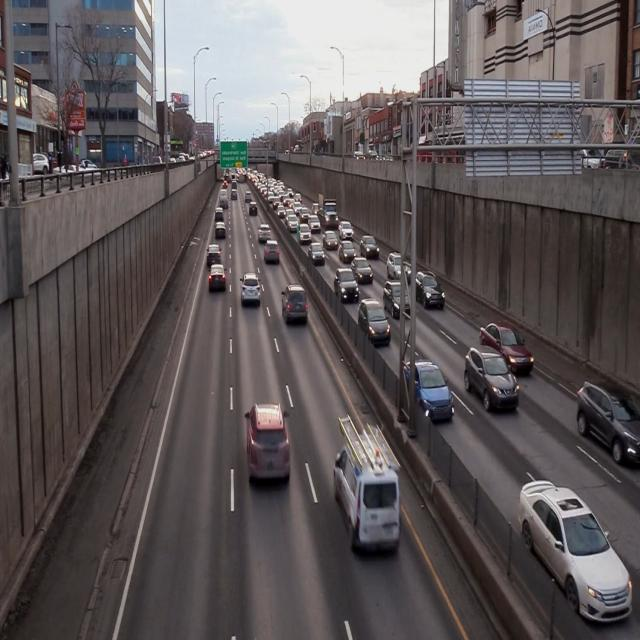Vehicle: (519, 472, 633, 624), (336, 407, 401, 561), (576, 365, 640, 474), (459, 346, 520, 418), (244, 402, 294, 489), (400, 360, 454, 428), (355, 300, 393, 348), (279, 280, 309, 328), (238, 270, 264, 309), (207, 266, 229, 295)
